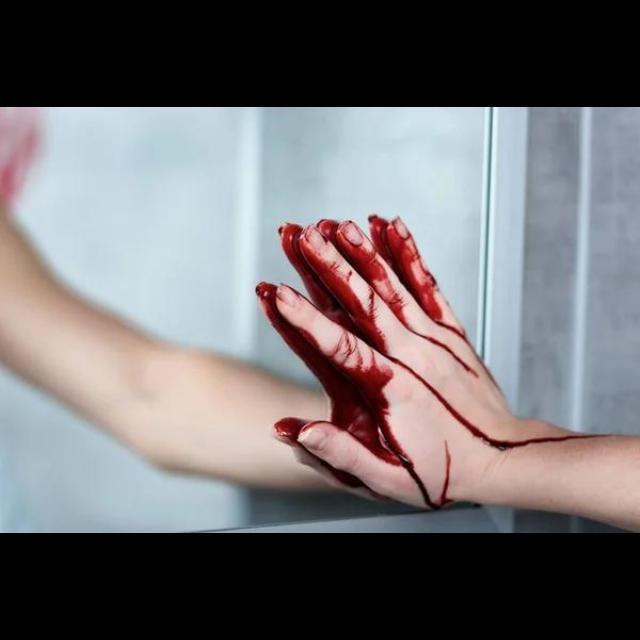blood: (256, 216, 607, 510)
